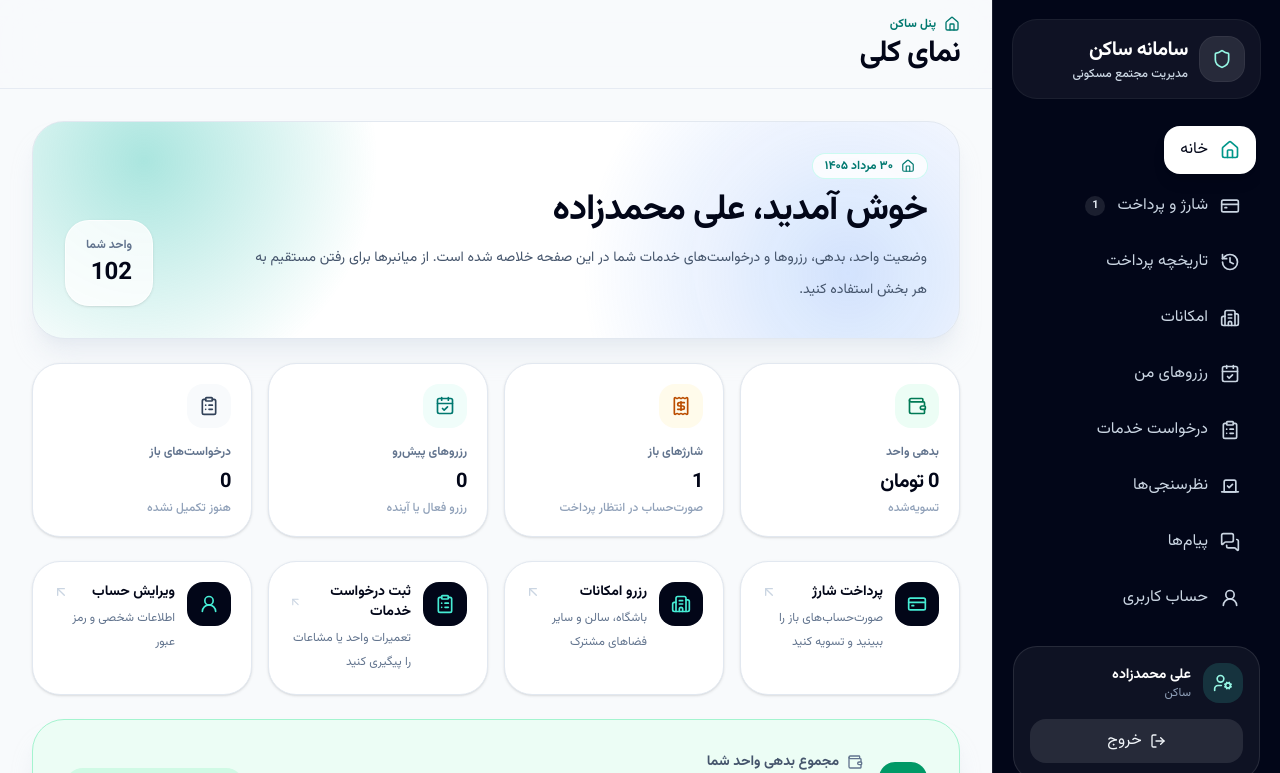
Test: ResidentDashboardPage › refreshes the payment history after a successful payment
Click the button "تاریخچه پرداخت" at (1173, 262), box [1090,238,1256,286]
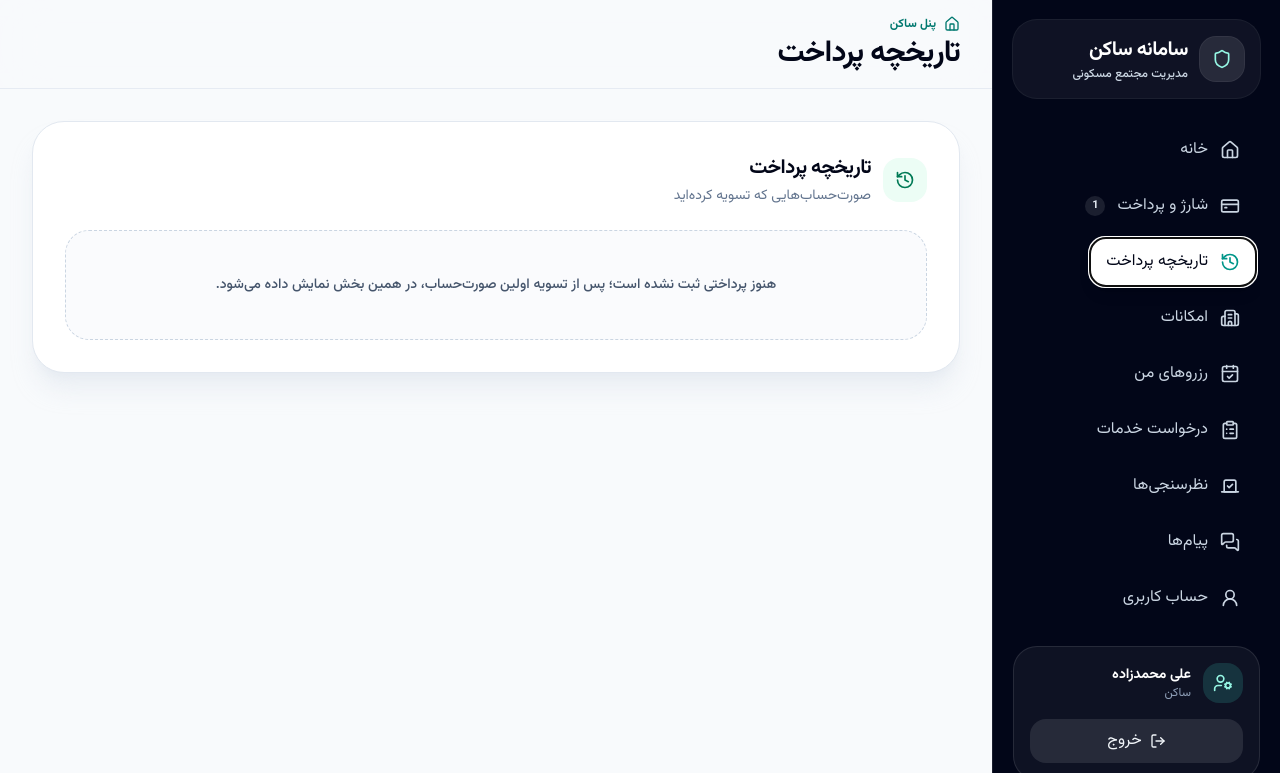
Check: the text "هنوز پرداختی ثبت نشده است" is shown, box [216,274,776,296]
Click the button "شارژ و پرداخت 1" at (1163, 206), box [1069,182,1256,230]
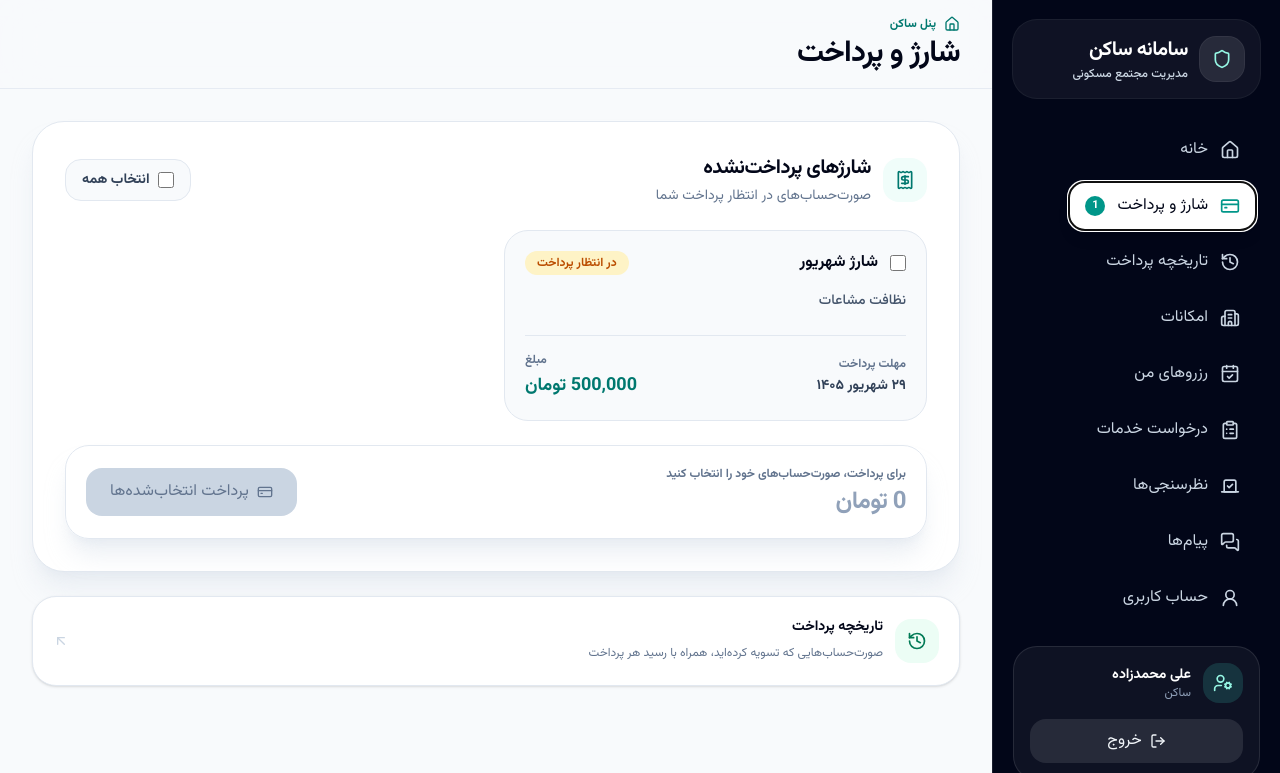
Click the checkbox named "انتخاب شارژ شهریور" at (898, 263), box [890,255,906,271]
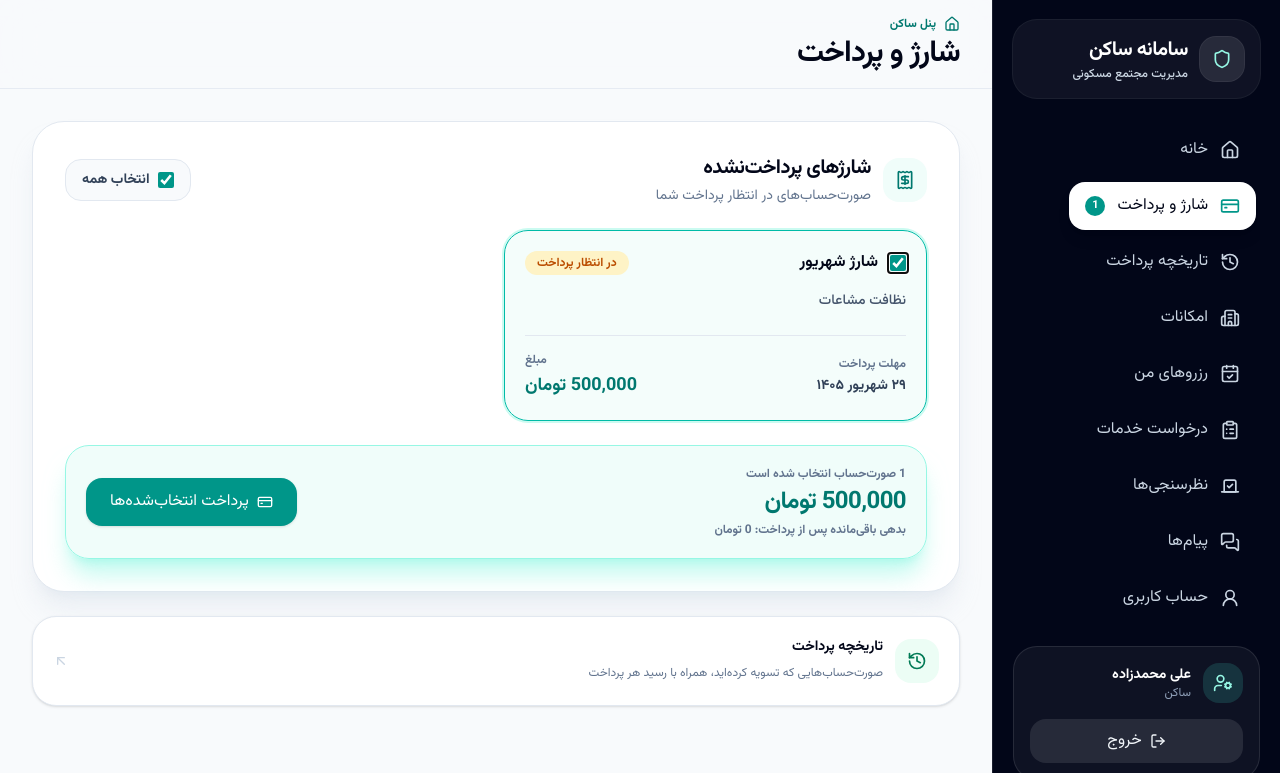
Click the button "پرداخت انتخاب‌شده‌ها" at (191, 502), box [86,478,297,526]
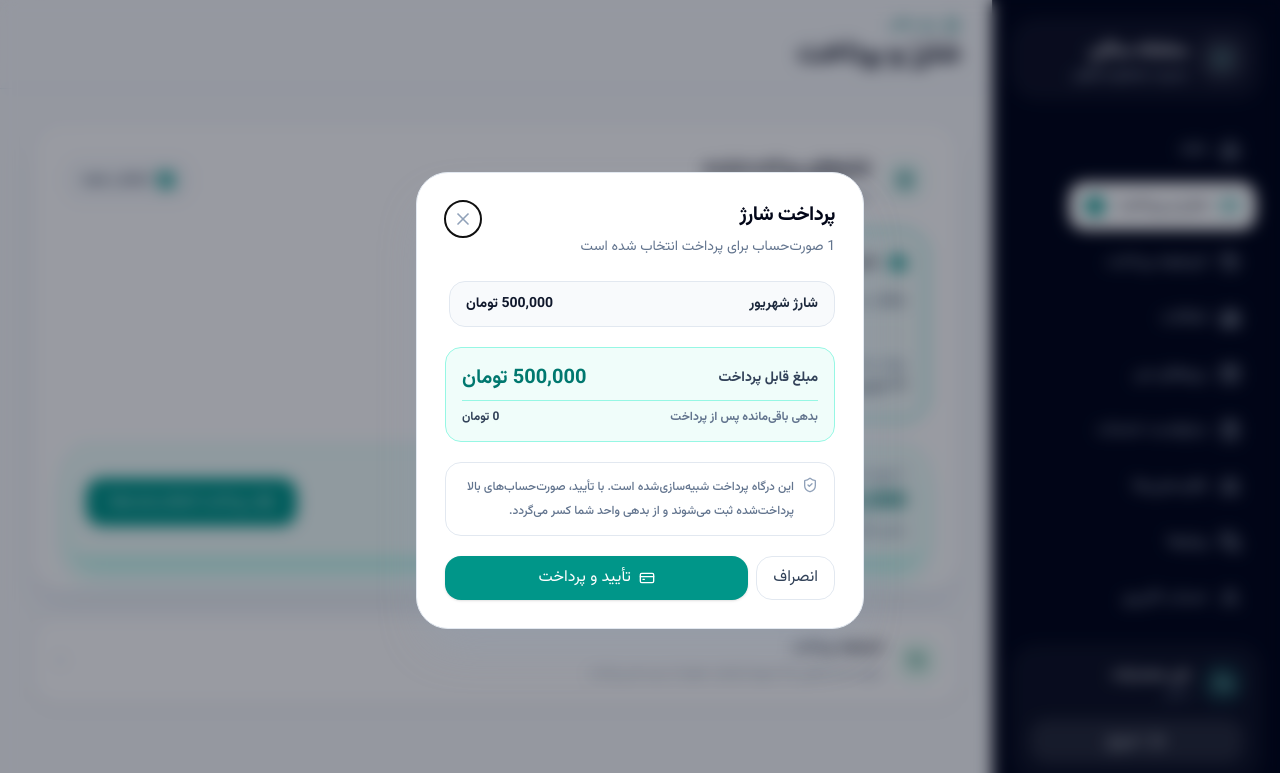
Click the button "تأیید و پرداخت" at (597, 578), box [445,556,748,600]
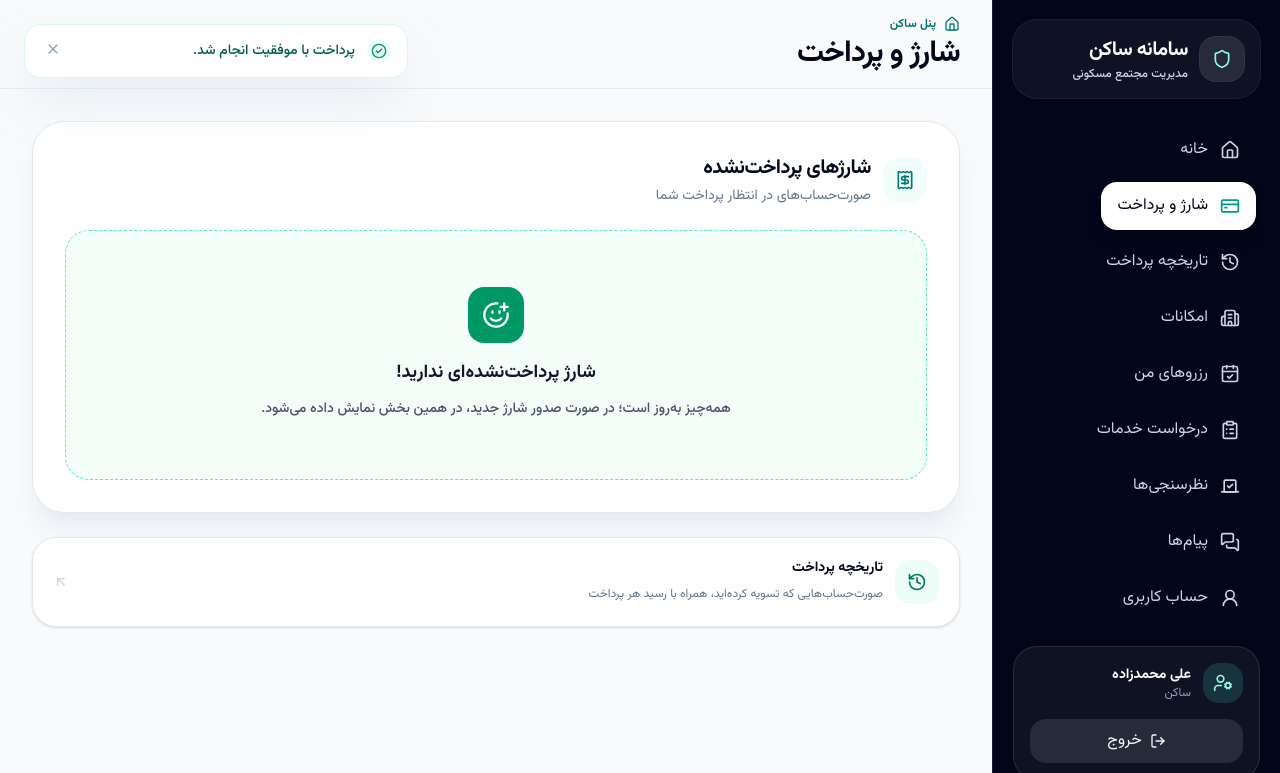
Click the button "تاریخچه پرداخت" at (1173, 262), box [1090,238,1256,286]
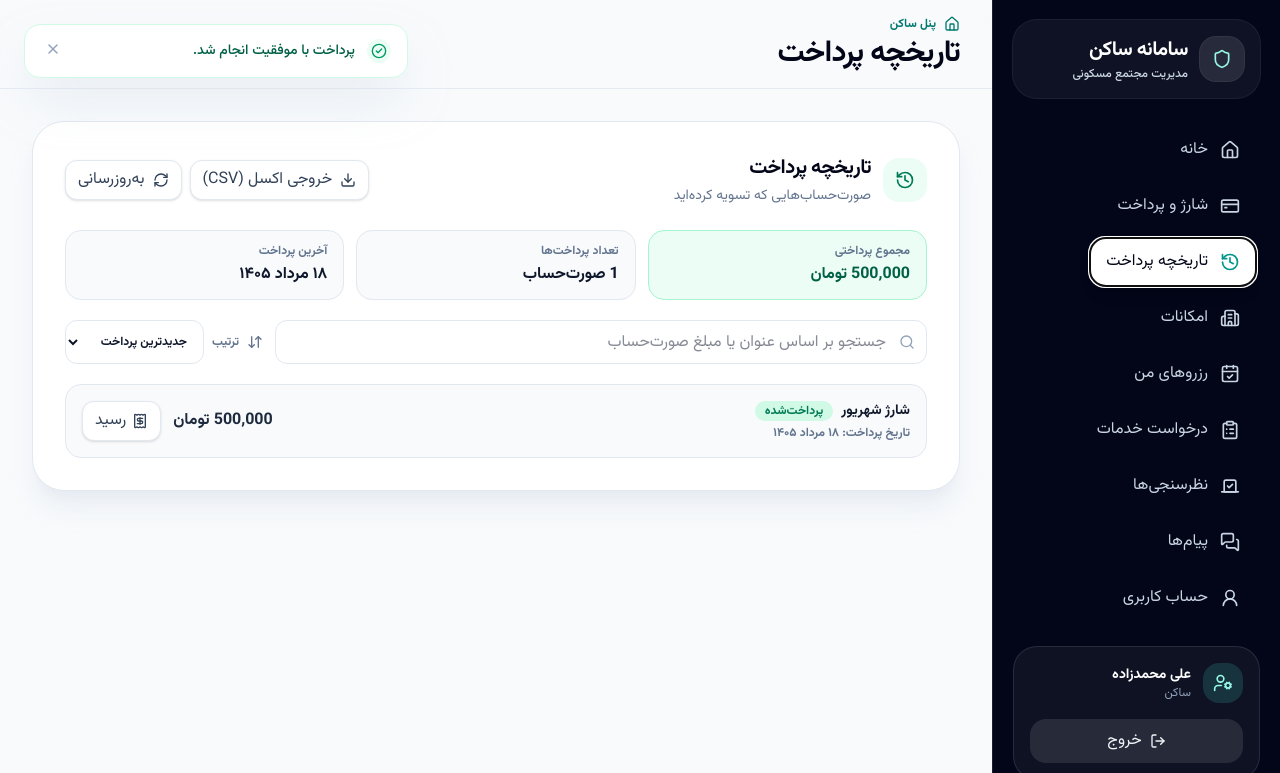
Check: the heading "شارژ شهریور" is shown, box [841,401,910,421]
Check: the text "مجموع پرداختی" is shown, box [835,242,910,260]
